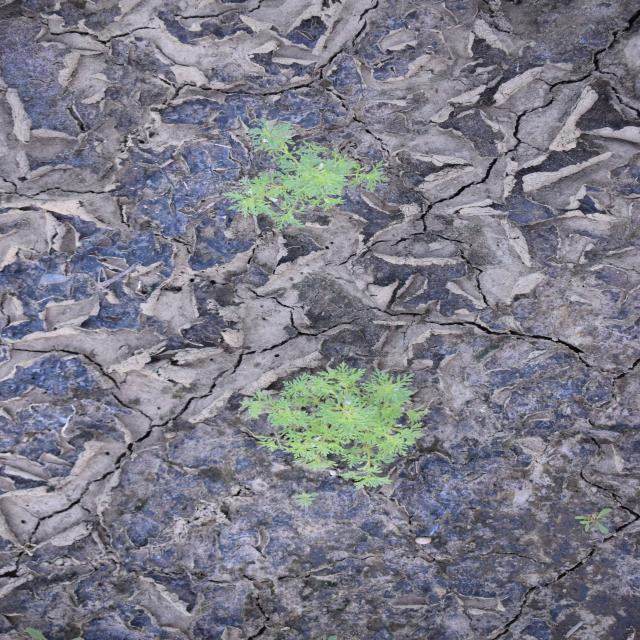Carpetweed: (572, 506, 614, 534)
Ragweed: (236, 362, 433, 491), (220, 117, 390, 231), (289, 490, 320, 510)
